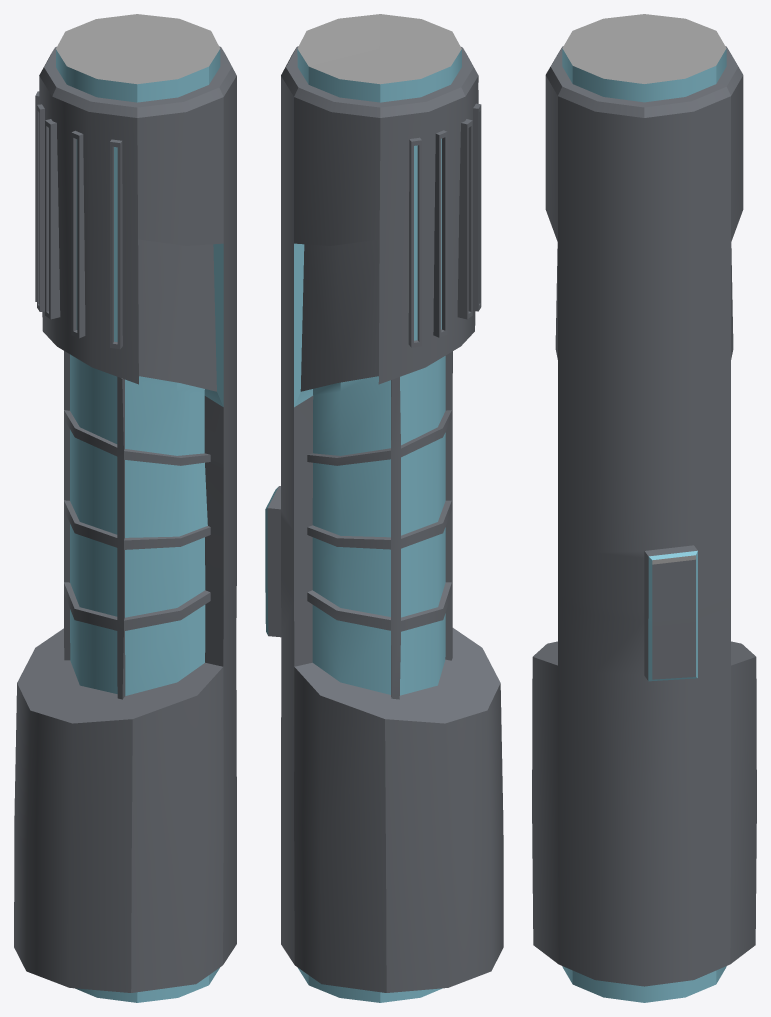
Rendered from tower_unit.fbx.
3 renders of one model, left to right at view 1: azimuth 30°, elevation 25°; view 2: azimuth 150°, elevation 25°; view 3: azimuth 270°, elevation 25°, orthographic.
Parts seen in each view (by area): view 1: tower_body, pCube3, pCube1, pCube5, pCube2; view 2: tower_body, pCube2, pCube1, pCube4, pCube3; view 3: tower_body.
Boxes of the visible parts, x1,y1,x2,y2 form: tower_body: [14, 14, 236, 1002]; pCube3: [71, 130, 85, 338]; pCube1: [45, 119, 60, 319]; pCube5: [110, 139, 122, 349]; pCube2: [37, 104, 44, 311]; tower_body: [265, 14, 503, 1002]; pCube2: [433, 130, 447, 337]; pCube1: [457, 119, 472, 319]; pCube4: [408, 137, 421, 347]; pCube3: [472, 103, 481, 311]; tower_body: [532, 14, 756, 1002].
Size of the model in its own units: 13.25 by 54.87 by 12.17.
